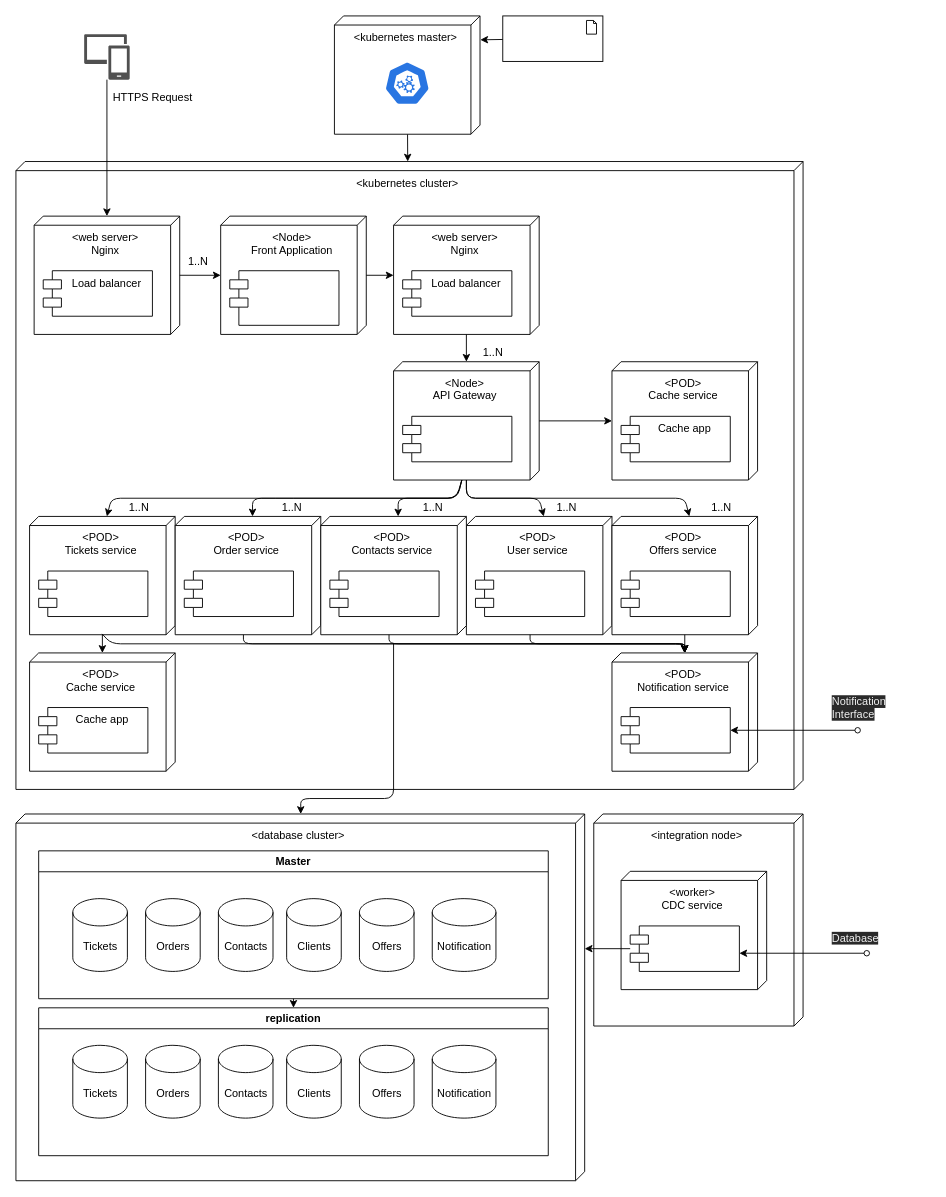
The diagram is 946 pixels wide and 1197 high, and some of its shapes have lost their labels. Each missing label, with the centre of its shape:
API Gateway: point (457, 438)
CDC APP: point (684, 948)
configuration: point (552, 38)
Contacts APP: point (384, 593)
Front SPA + SSR application: point (284, 297)
Notification APP: point (675, 730)
Offers APP: point (675, 593)
Order APP: point (238, 593)
Ticket APP: point (93, 593)
User APP: point (530, 593)
